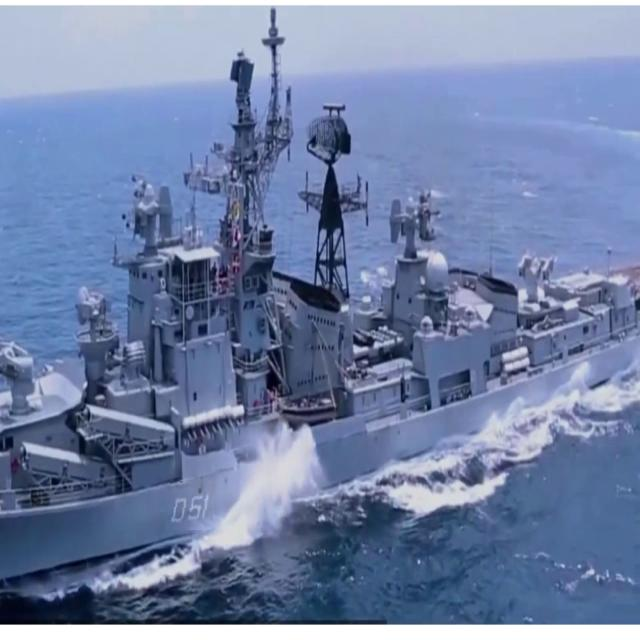OCR: (165, 479, 216, 530)
